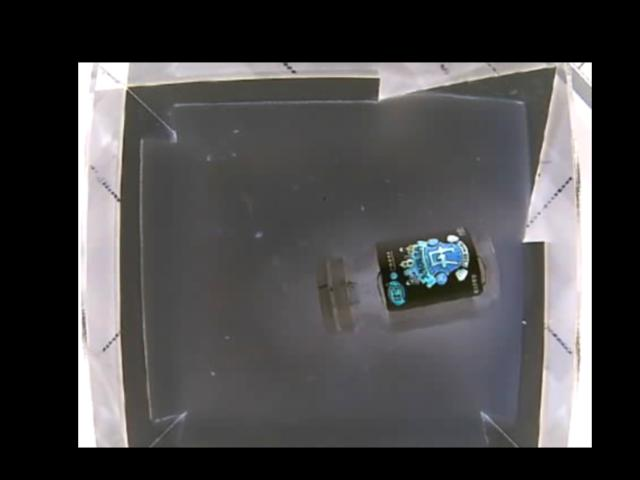Bottle: (316, 218, 501, 336)
